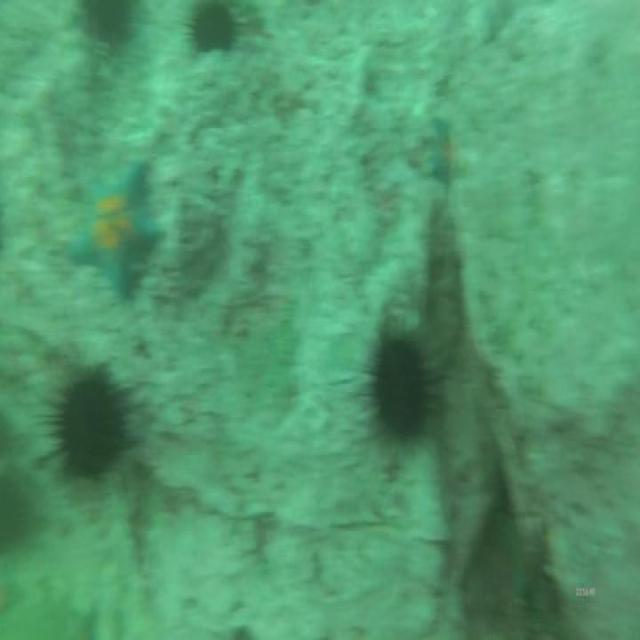echinus: (57, 381, 124, 477), (374, 333, 428, 442), (192, 8, 234, 54)
starfish: (68, 166, 164, 299), (431, 117, 454, 183)
